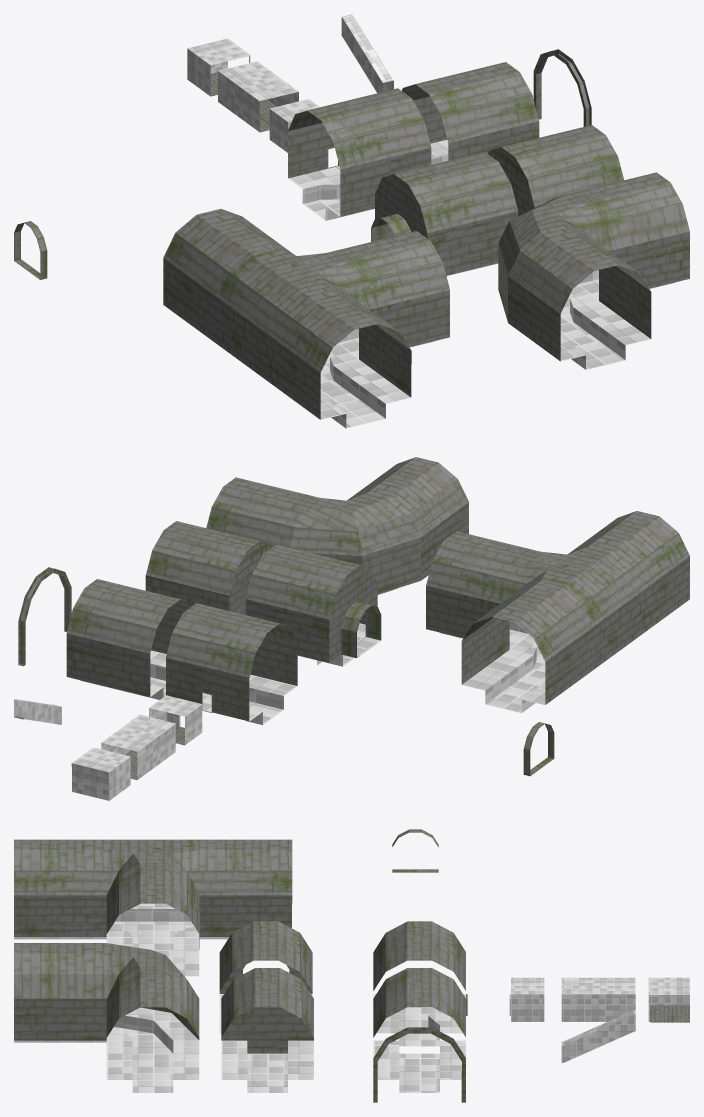
The model's file is SewerSegments.fbx.
3 views of the same model, one above another, from view 1: azimuth 30°, elevation 25°; view 2: azimuth 150°, elevation 25°; view 3: azimuth 270°, elevation 25° (orthographic). The views are drawn at different scales.
Parts seen in each view (by area): view 1: Sewer_Tunnel.Intersection, Sewer_Tunnel.Corner, Sewer_Tunnel.Door, Sewer_Tunnel.EndDoor, Sewer_Tunnel.Plain, Sewer_Tunnel.EndCap, Corridor.Plain, Corridor.Corner, Corridor_Tunnel.Stairs[Visual], Sewer_Supports, Corridor.StartDoor, BigRoomOpening; view 2: Sewer_Tunnel.Intersection, Sewer_Tunnel.Corner, Sewer_Tunnel.Door, Sewer_Tunnel.EndDoor, Sewer_Tunnel.Plain, Sewer_Tunnel.EndCap, Corridor.Plain, Corridor.Corner, Corridor.StartDoor, Sewer_Supports, Corridor_Tunnel.Stairs[Visual], BigRoomOpening; view 3: Sewer_Tunnel.Intersection, Sewer_Tunnel.Corner, Sewer_Tunnel.EndCap, Sewer_Tunnel.Plain, Sewer_Tunnel.Door, Sewer_Tunnel.EndDoor, Corridor.Plain, Corridor.Corner, Corridor_Tunnel.Stairs[Visual], Corridor.StartDoor, Sewer_Supports.
Part boxes in pixels (bbox=[...]): Sewer_Tunnel.Intersection: bbox=[163, 209, 449, 428]; Sewer_Tunnel.Corner: bbox=[498, 172, 689, 369]; Sewer_Tunnel.Door: bbox=[288, 88, 431, 220]; Sewer_Tunnel.EndDoor: bbox=[371, 152, 518, 275]; Sewer_Tunnel.Plain: bbox=[402, 62, 539, 164]; Sewer_Tunnel.EndCap: bbox=[488, 125, 623, 215]; Corridor.Plain: bbox=[218, 61, 298, 132]; Corridor.Corner: bbox=[187, 38, 250, 96]; Corridor_Tunnel.Stairs[Visual]: bbox=[341, 14, 393, 93]; Sewer_Supports: bbox=[533, 49, 591, 126]; Corridor.StartDoor: bbox=[269, 99, 319, 152]; BigRoomOpening: bbox=[14, 221, 47, 279]; Sewer_Tunnel.Intersection: bbox=[426, 511, 689, 713]; Sewer_Tunnel.Corner: bbox=[206, 457, 468, 594]; Sewer_Tunnel.Door: bbox=[166, 603, 297, 724]; Sewer_Tunnel.EndDoor: bbox=[245, 544, 381, 666]; Sewer_Tunnel.Plain: bbox=[66, 579, 192, 699]; Sewer_Tunnel.EndCap: bbox=[145, 521, 271, 614]; Corridor.Plain: bbox=[101, 714, 175, 779]; Corridor.Corner: bbox=[71, 747, 130, 800]; Corridor.StartDoor: bbox=[149, 695, 202, 745]; Sewer_Supports: bbox=[18, 567, 71, 666]; Corridor_Tunnel.Stairs[Visual]: bbox=[14, 699, 61, 724]; BigRoomOpening: bbox=[523, 722, 554, 776]; Sewer_Tunnel.Intersection: bbox=[14, 839, 292, 976]; Sewer_Tunnel.Corner: bbox=[14, 943, 199, 1092]; Sewer_Tunnel.EndCap: bbox=[221, 968, 313, 1092]; Sewer_Tunnel.Plain: bbox=[373, 968, 465, 1092]; Sewer_Tunnel.Door: bbox=[373, 921, 467, 1046]; Sewer_Tunnel.EndDoor: bbox=[219, 921, 312, 1033]; Corridor.Plain: bbox=[561, 977, 635, 1021]; Corridor.Corner: bbox=[648, 977, 689, 1022]; Corridor_Tunnel.Stairs[Visual]: bbox=[561, 1010, 635, 1062]; Corridor.StartDoor: bbox=[509, 977, 544, 1021]; Sewer_Supports: bbox=[373, 1027, 465, 1102].
Size of what is drawn, in the model's own units: 2381 by 433 by 2915.
Materials: 2 (2 with a texture image).
